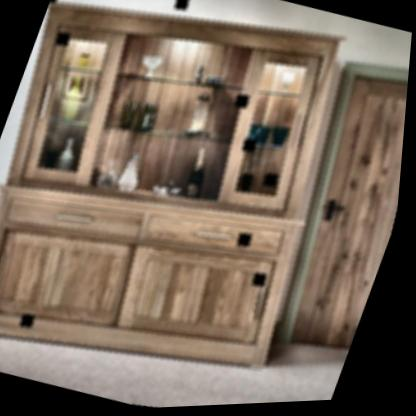Cupboard: (0, 0, 387, 384)
